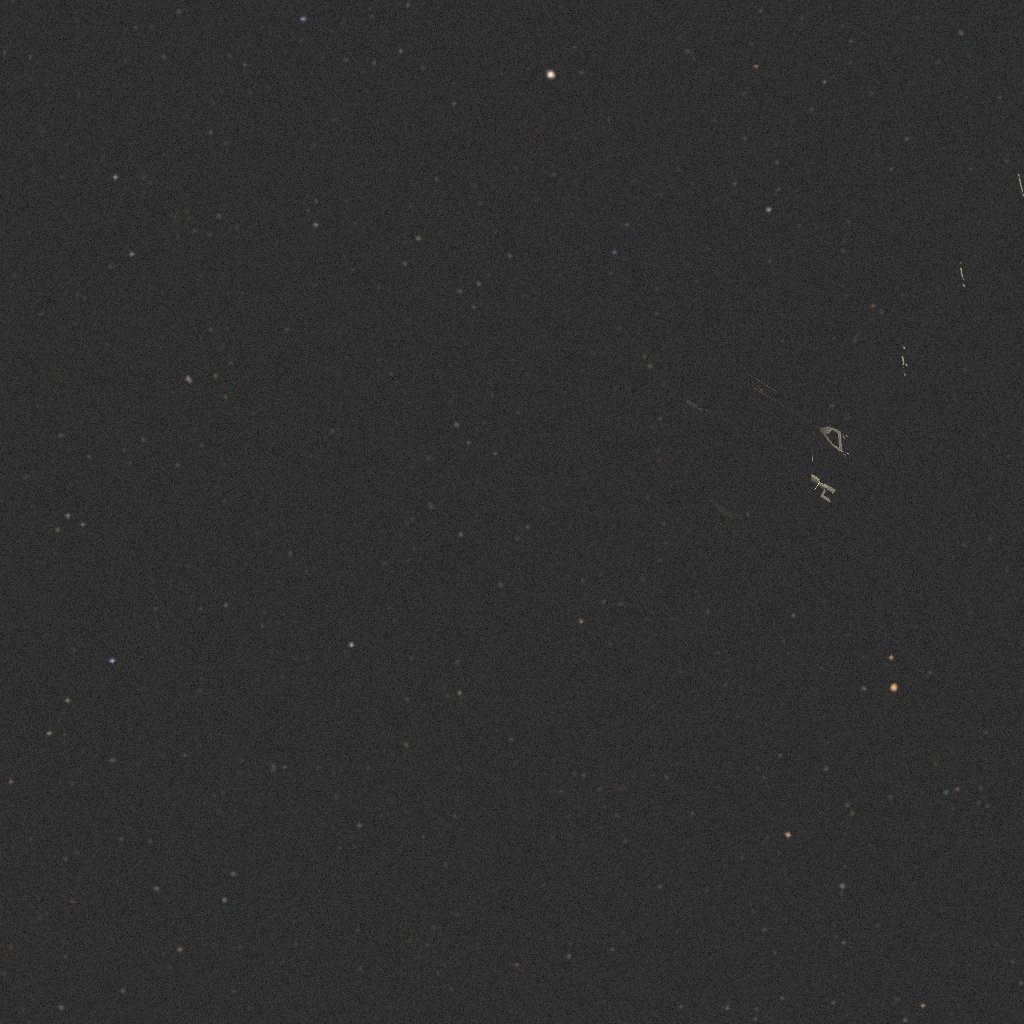earth_observation_sat_1: (681, 174, 1024, 542)
